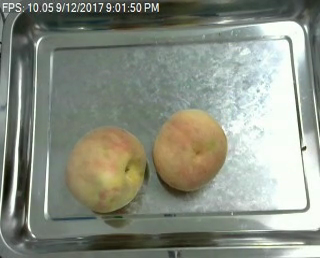Peach: (63, 125, 148, 213), (151, 109, 226, 190)
